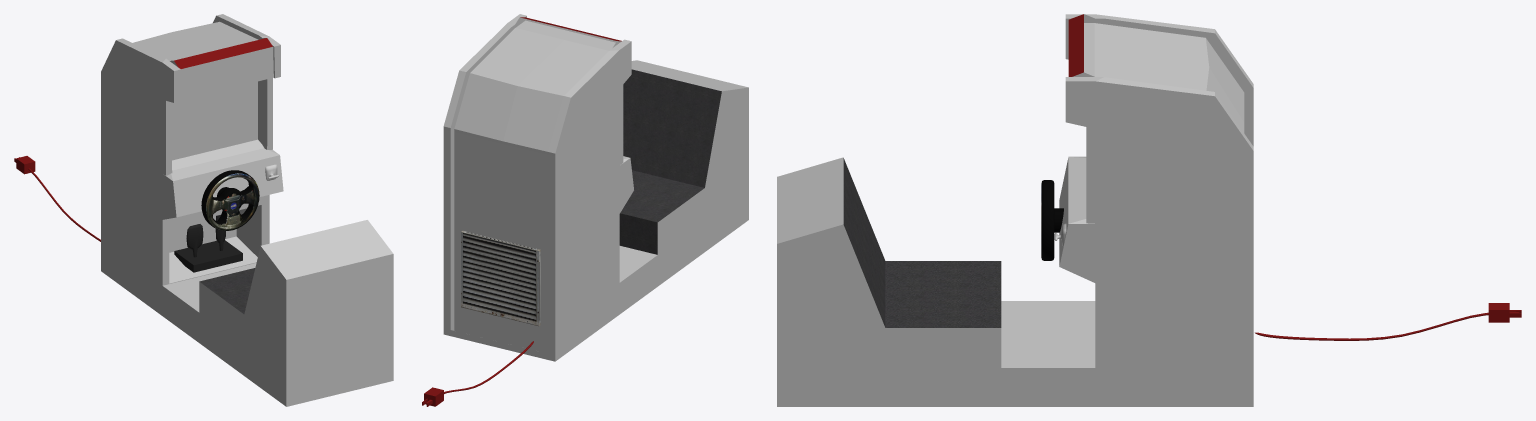
The model's file is segaarcade.fbx.
The picture shows the model from 3 angles, left to right: view 1: azimuth 30°, elevation 25°; view 2: azimuth 150°, elevation 25°; view 3: azimuth 270°, elevation 25°; orthographic projection. The views are drawn at different scales.
Visible parts, largest first — view 1: arcade, volant, pedal; view 2: arcade, gril, prise; view 3: arcade, volant, fil.
Boxes of the visible parts, x1=… form: arcade: x1=101, y1=14, x2=393, y2=406; volant: x1=201, y1=170, x2=259, y2=230; pedal: x1=174, y1=215, x2=242, y2=272; arcade: x1=443, y1=14, x2=748, y2=361; gril: x1=461, y1=231, x2=540, y2=326; prise: x1=422, y1=387, x2=443, y2=406; arcade: x1=777, y1=14, x2=1253, y2=406; volant: x1=1041, y1=180, x2=1063, y2=260; fil: x1=1255, y1=311, x2=1520, y2=340.
Bounding box in the file's own units: 24.83 × 57 × 116.
